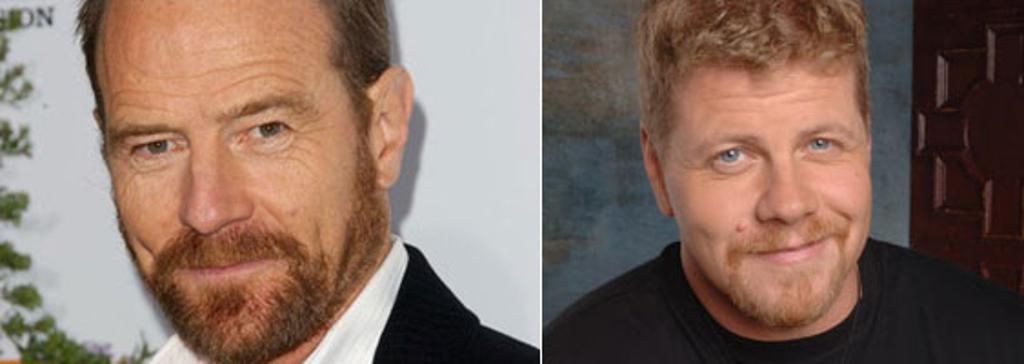face: (90, 6, 360, 360), (666, 54, 878, 332)
